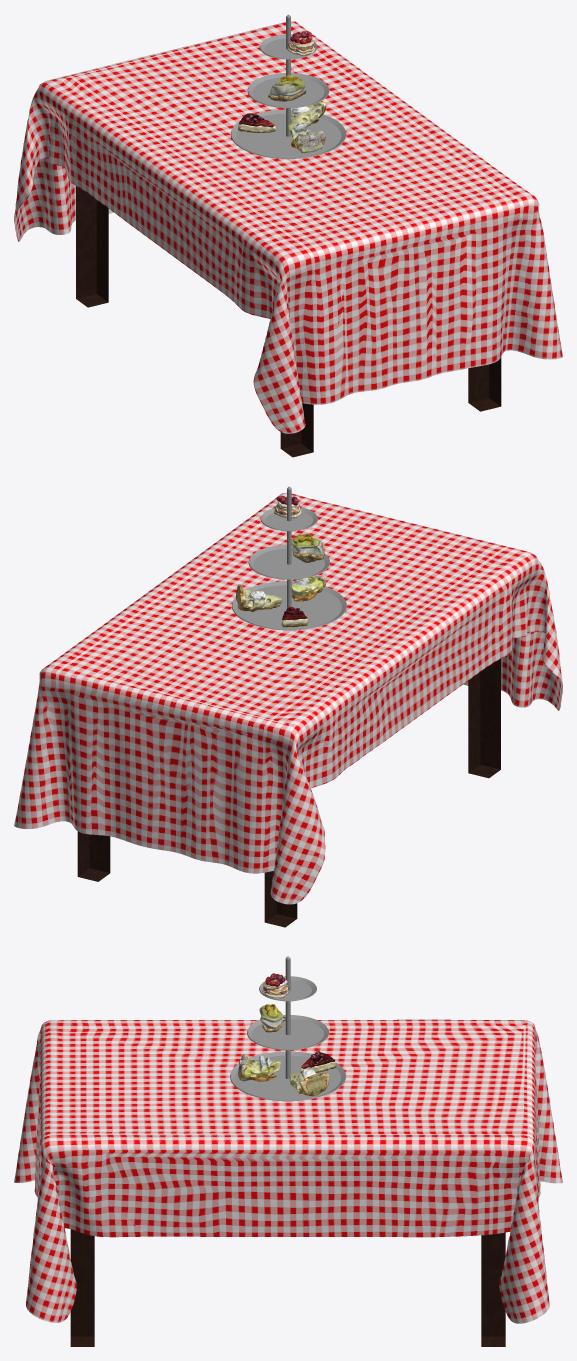
The model's file is CakeTable_NoCake.glb.
The picture shows the model from 3 angles, top to bottom: view 1: azimuth 30°, elevation 25°; view 2: azimuth 150°, elevation 25°; view 3: azimuth 270°, elevation 25°; orthographic projection.
Visible parts, largest first — view 1: Plane, Cube, Cube.001, Meshy_AI_Mosaic_Tooth_on_Pink_0429064422_texture, Meshy_AI_Abstract_Yellow_Facet_0429063211_texture, Meshy_AI_Crusty_Slipper_0429063005_texture, Meshy_AI_Cherry_Cheesecake_Sli_0429064109_texture, Meshy_AI_Cherry_Pavlova_Stack_0429063041_texture; view 2: Plane, Cube, Cube.001, Meshy_AI_Crusty_Slipper_0429063005_texture, Meshy_AI_Abstract_Yellow_Facet_0429063211_texture, Meshy_AI_Mosaic_Tooth_on_Pink_0429064422_texture; view 3: Plane, Cube.001, Cube, Meshy_AI_Mosaic_Tooth_on_Pink_0429064422_texture, Meshy_AI_Crusty_Slipper_0429063005_texture, Meshy_AI_Abstract_Yellow_Facet_0429063211_texture, Meshy_AI_Cherry_Pavlova_Stack_0429063041_texture, Meshy_AI_Cherry_Cheesecake_Sli_0429064109_texture.
Boxes of the visible parts, box(x1,y1,x2,y2) form: Plane: box(14, 21, 562, 433); Cube: box(76, 186, 501, 457); Cube.001: box(231, 14, 346, 158); Meshy_AI_Mosaic_Tooth_on_Pink_0429064422_texture: box(287, 122, 325, 153); Meshy_AI_Abstract_Yellow_Facet_0429063211_texture: box(268, 75, 306, 101); Meshy_AI_Crusty_Slipper_0429063005_texture: box(291, 101, 326, 126); Meshy_AI_Cherry_Cheesecake_Sli_0429064109_texture: box(238, 113, 275, 132); Meshy_AI_Cherry_Pavlova_Stack_0429063041_texture: box(287, 31, 315, 55); Plane: box(14, 492, 562, 904); Cube: box(77, 659, 500, 927); Cube.001: box(232, 486, 346, 630); Meshy_AI_Crusty_Slipper_0429063005_texture: box(236, 584, 282, 611); Meshy_AI_Abstract_Yellow_Facet_0429063211_texture: box(291, 533, 324, 562); Meshy_AI_Mosaic_Tooth_on_Pink_0429064422_texture: box(291, 575, 326, 601); Plane: box(14, 1019, 562, 1323); Cube.001: box(230, 956, 345, 1101); Cube: box(70, 1229, 505, 1346); Meshy_AI_Mosaic_Tooth_on_Pink_0429064422_texture: box(238, 1054, 280, 1081); Meshy_AI_Crusty_Slipper_0429063005_texture: box(289, 1069, 329, 1096); Meshy_AI_Abstract_Yellow_Facet_0429063211_texture: box(259, 1004, 285, 1032); Meshy_AI_Cherry_Pavlova_Stack_0429063041_texture: box(262, 973, 289, 998); Meshy_AI_Cherry_Cheesecake_Sli_0429064109_texture: box(300, 1051, 336, 1073).
Bounding box in the file's own units: 1.48 × 1.55 × 2.27.
8 materials, 7 textured.
